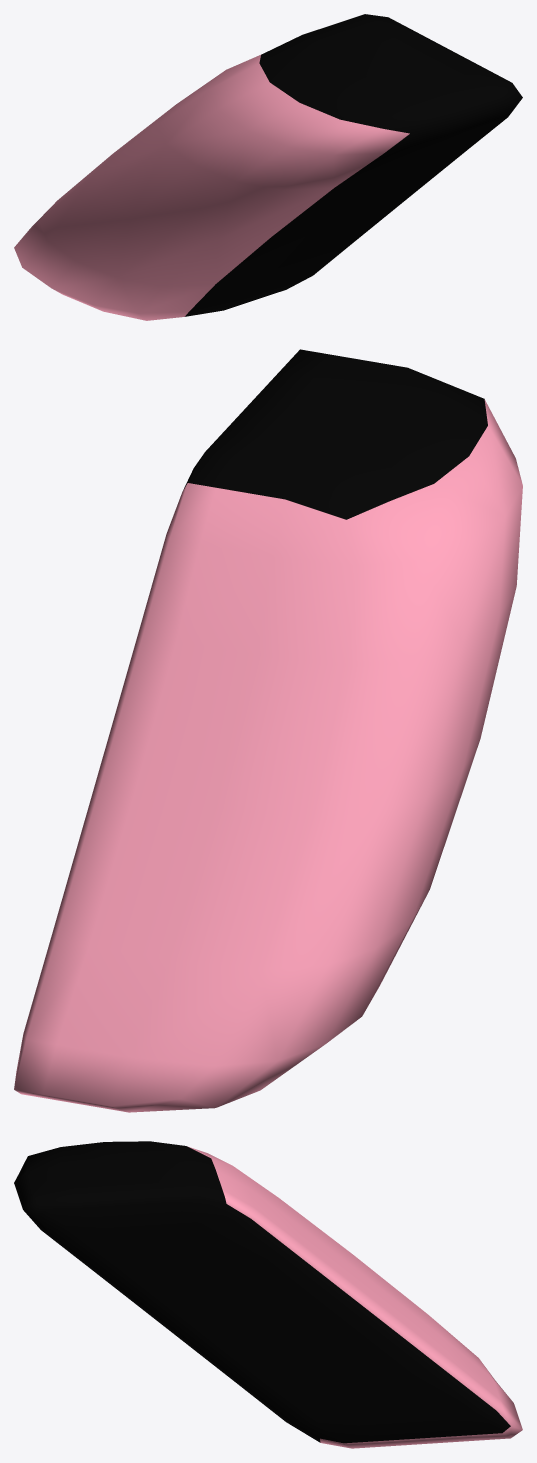
3 views of the same model, one above another, from view 1: azimuth 30°, elevation 25°; view 2: azimuth 150°, elevation 25°; view 3: azimuth 270°, elevation 25° (orthographic). The views are drawn at different scales.
Visible parts, largest first — view 1: Box1240; view 2: Box1240; view 3: Box1240.
Part boxes in pixels (bbox=[...]): Box1240: bbox=[14, 14, 522, 320]; Box1240: bbox=[14, 349, 522, 1112]; Box1240: bbox=[14, 1141, 522, 1448].
Bounding box in the file's own units: 0.0297 × 0.0357 × 0.0614.
